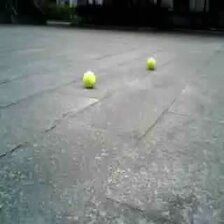tennis: (83, 71, 95, 86), (147, 58, 155, 69)
